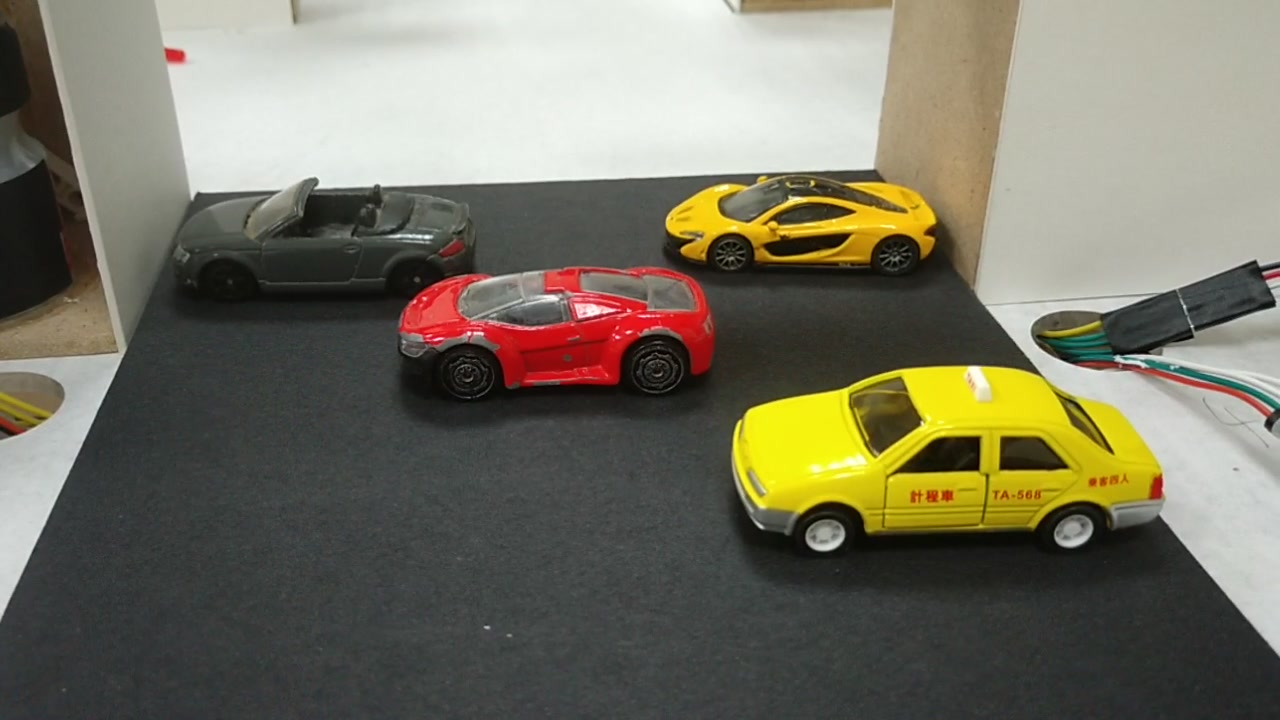car: (739, 368, 1157, 540), (400, 266, 714, 382), (172, 189, 469, 280), (650, 182, 934, 276)
